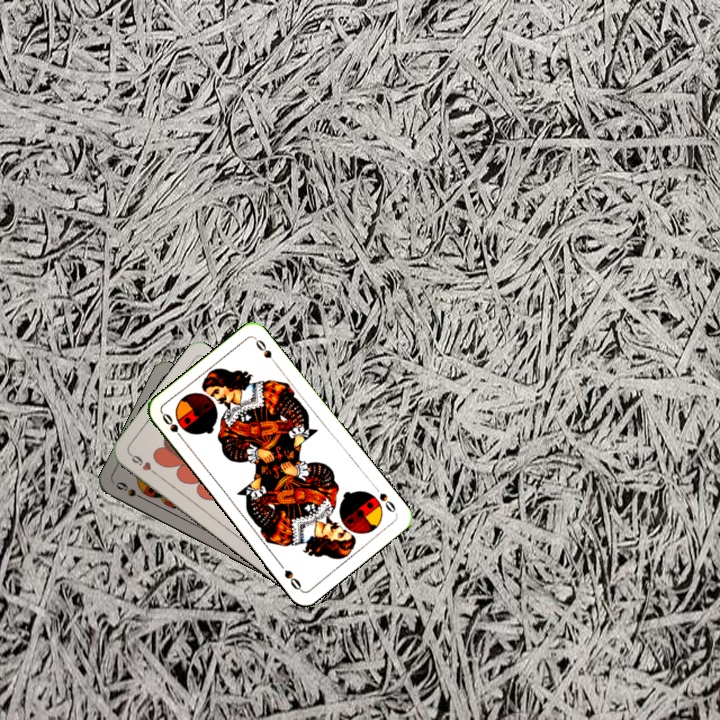H9: (125, 449, 160, 478)
S9: (112, 478, 149, 503)
SO: (158, 409, 187, 445), (375, 489, 399, 516)
